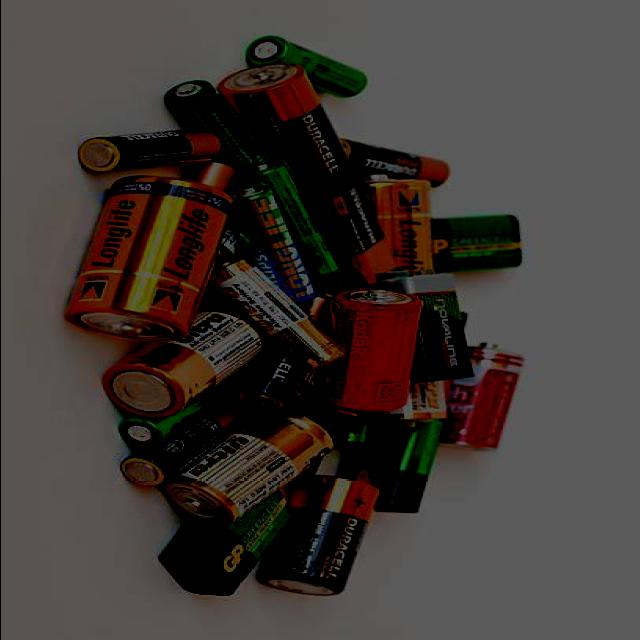AA: (206, 258, 351, 375), (227, 185, 321, 306), (243, 33, 368, 101), (73, 126, 223, 175)
